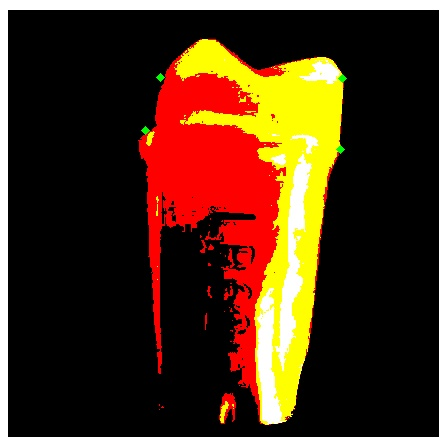coin_1: (145, 130, 165, 150)
coin_2: (160, 77, 180, 97)
coin_3: (340, 149, 360, 169)
coin_4: (342, 78, 362, 98)
